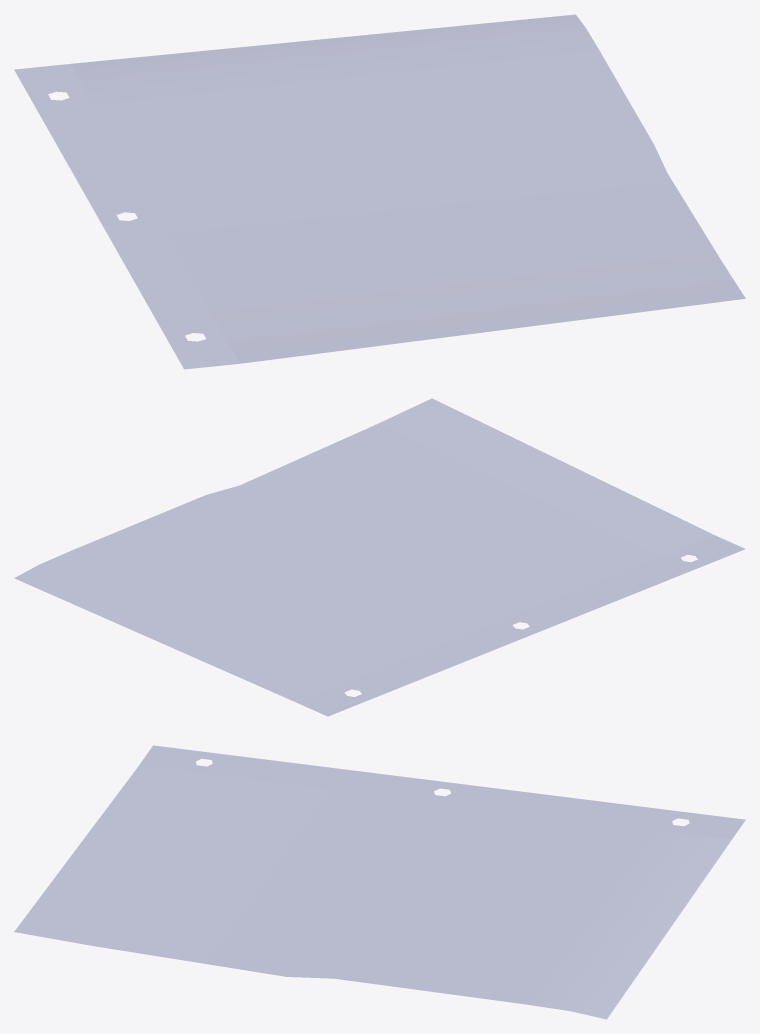
File: Hoja1.fbx
The picture shows the model from 3 angles, top to bottom: view 1: azimuth 30°, elevation 25°; view 2: azimuth 150°, elevation 25°; view 3: azimuth 270°, elevation 25°; orthographic projection. The views are drawn at different scales.
Visible parts, largest first — view 1: Hoja1; view 2: Hoja1; view 3: Hoja1.
Part boxes in pixels (x1,y1,x2,y2): Hoja1: (14,14,745,369); Hoja1: (14,398,745,716); Hoja1: (14,745,745,1019).
Size of the model in its own units: 0.2504 by 0.00567 by 0.2841.
